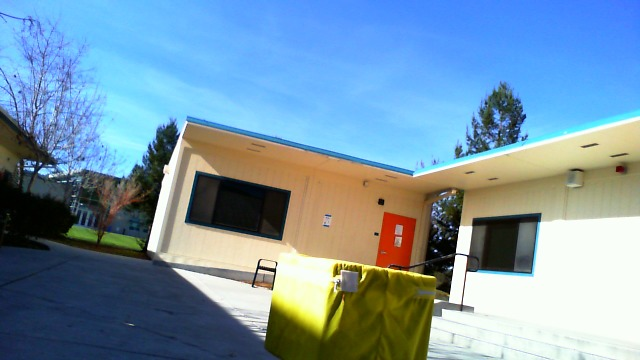cube: (260, 250, 434, 360)
